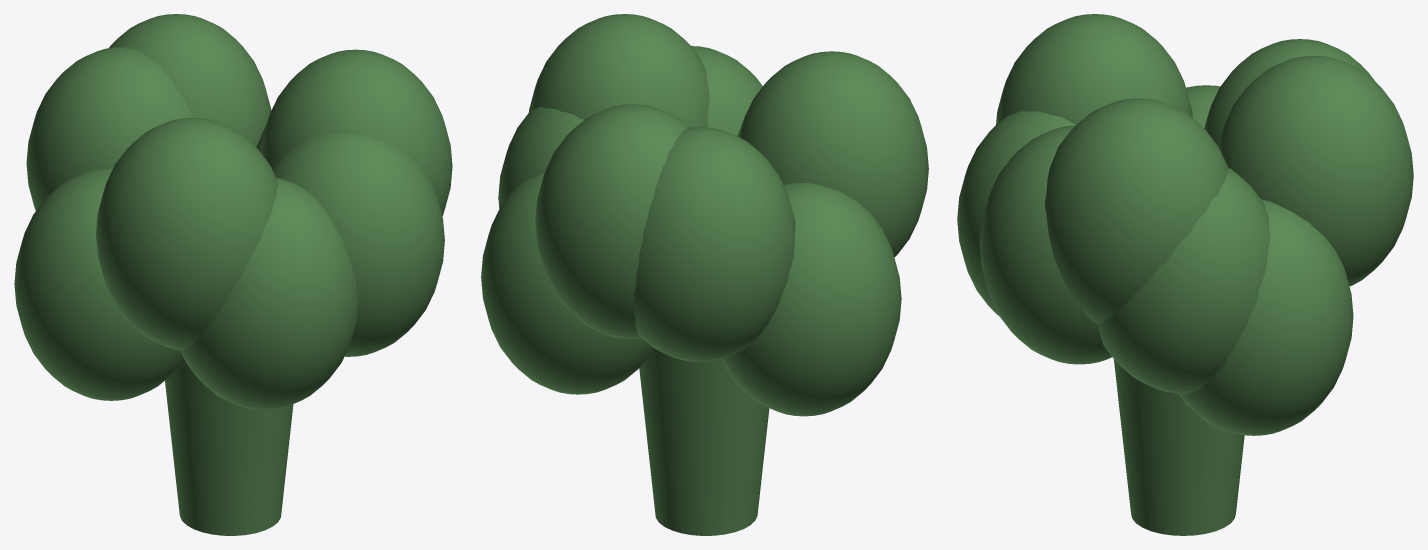
The model's file is wp-brocoli.glb.
3 views of the same model, side by side, from view 1: azimuth 30°, elevation 25°; view 2: azimuth 150°, elevation 25°; view 3: azimuth 270°, elevation 25° (orthographic). The views are drawn at different scales.
Parts seen in each view (by area): view 1: wp-brocoli; view 2: wp-brocoli; view 3: wp-brocoli.
Boxes of the visible parts, x1,y1,x2,y2 form: wp-brocoli: (14, 14, 452, 535); wp-brocoli: (481, 14, 928, 535); wp-brocoli: (957, 14, 1413, 535).
Bounding box in the file's own units: 0.18 × 0.2 × 0.18.
